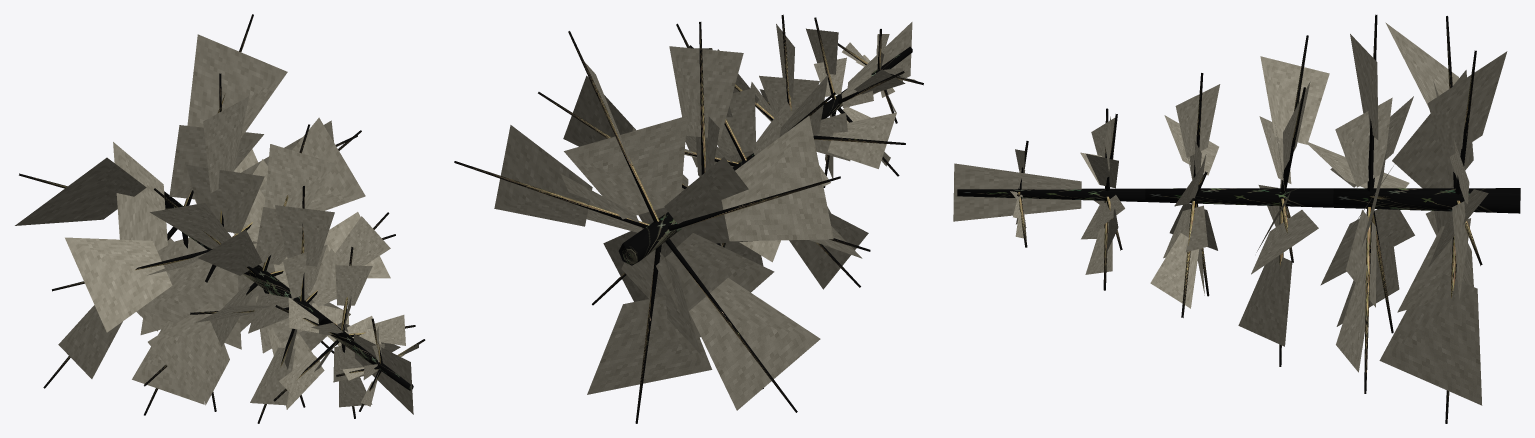
Rendered from PZ_ALP_LOD1_11_Dwarf_Spruce.glb.
3 renders of one model, left to right at view 1: azimuth 30°, elevation 25°; view 2: azimuth 150°, elevation 25°; view 3: azimuth 270°, elevation 25°, orthographic. The views are drawn at different scales.
Visible parts, largest first — view 1: NeedleSprigCards_DoubleSided_MASK, StructuralBranches_Conifer, TreeTrunk_Bark; view 2: NeedleSprigCards_DoubleSided_MASK, StructuralBranches_Conifer, TreeTrunk_Bark; view 3: NeedleSprigCards_DoubleSided_MASK, TreeTrunk_Bark, StructuralBranches_Conifer.
Part boxes in pixels (left/top/right/bottom): NeedleSprigCards_DoubleSided_MASK: left=15, top=34, right=418, bottom=414; StructuralBranches_Conifer: left=19, top=14, right=425, bottom=423; TreeTrunk_Bark: left=164, top=191, right=413, bottom=390; NeedleSprigCards_DoubleSided_MASK: left=494, top=22, right=916, bottom=410; StructuralBranches_Conifer: left=454, top=14, right=923, bottom=423; TreeTrunk_Bark: left=618, top=46, right=912, bottom=265; NeedleSprigCards_DoubleSided_MASK: left=953, top=22, right=1507, bottom=405; TreeTrunk_Bark: left=957, top=188, right=1520, bottom=213; StructuralBranches_Conifer: left=1017, top=14, right=1482, bottom=423.
Size of the model in its own units: 2.26 by 2.27 by 2.92.
Materials: 2 (2 with a texture image).
